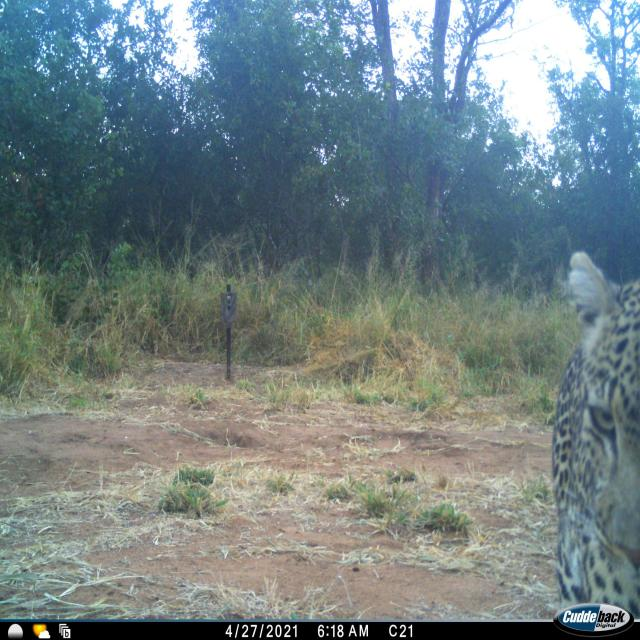Leopard: (536, 207, 634, 640)
